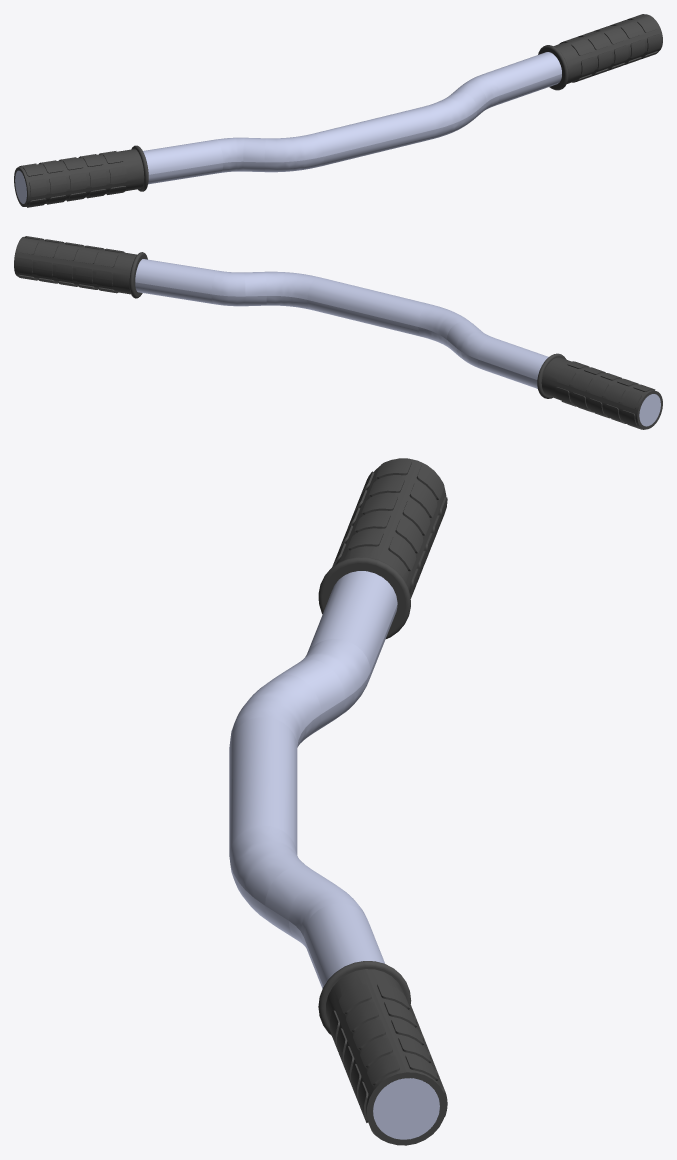
Rendered from HandleBar.glb.
3 views of the same model, one above another, from view 1: azimuth 30°, elevation 25°; view 2: azimuth 150°, elevation 25°; view 3: azimuth 270°, elevation 25° (orthographic). The views are drawn at different scales.
Parts seen in each view (by area): view 1: empty_2, empty_3, empty_4; view 2: empty_2, empty_4, empty_3; view 3: empty_2, empty_4, empty_3.
Part boxes in pixels (x1,y1,x2,y2): empty_2: (15,52,561,203); empty_3: (14,145,148,207); empty_4: (538,14,662,90); empty_2: (135,259,660,426); empty_4: (14,236,147,298); empty_3: (537,353,662,429); empty_2: (229,571,439,1139); empty_4: (318,961,447,1145); empty_3: (318,458,447,638).
Bounding box in the file's own units: 686 × 43.97 × 102.
